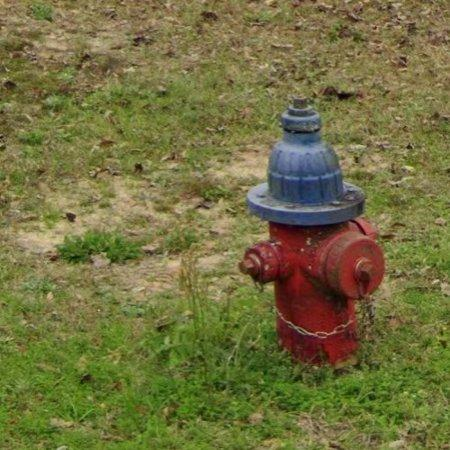a fire hydrant: (239, 98, 386, 366)
